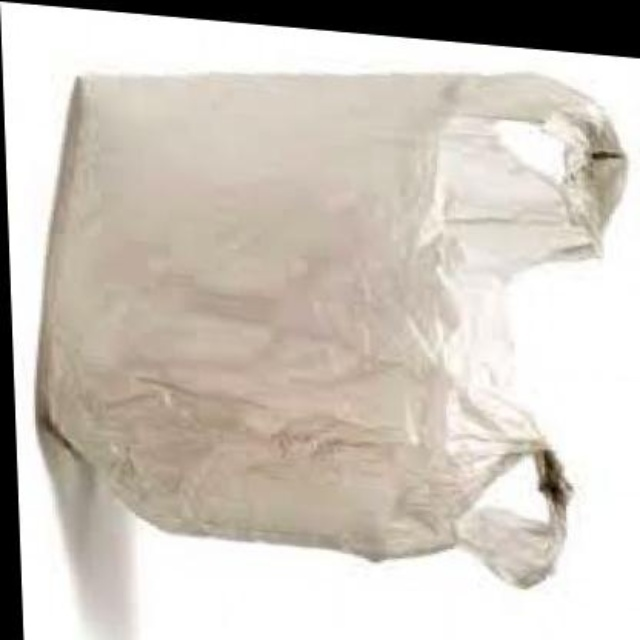trash: (38, 74, 626, 586)
